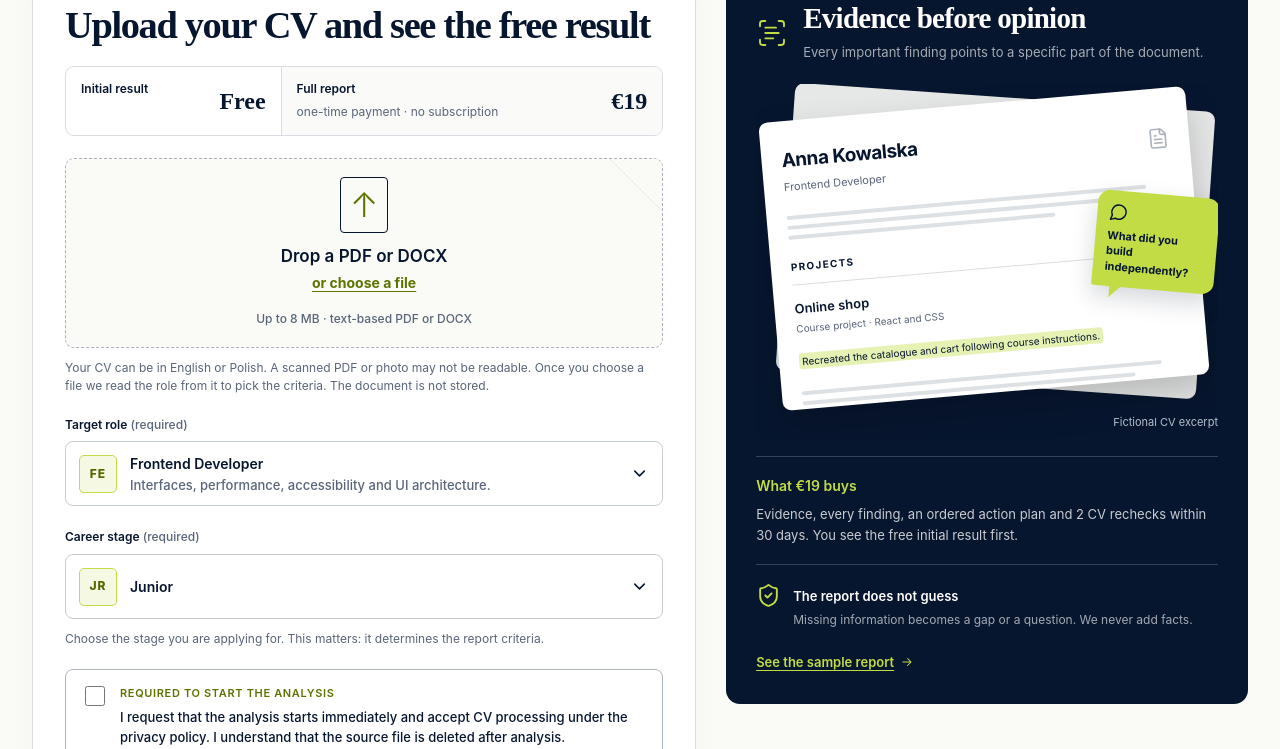
Scenario: mobile upload measurement › uses the same target-level framing in English and closes on pick
Click the dropdown named "Career stage": click(98, 587) [65,554,663,619]
(page scrolled)
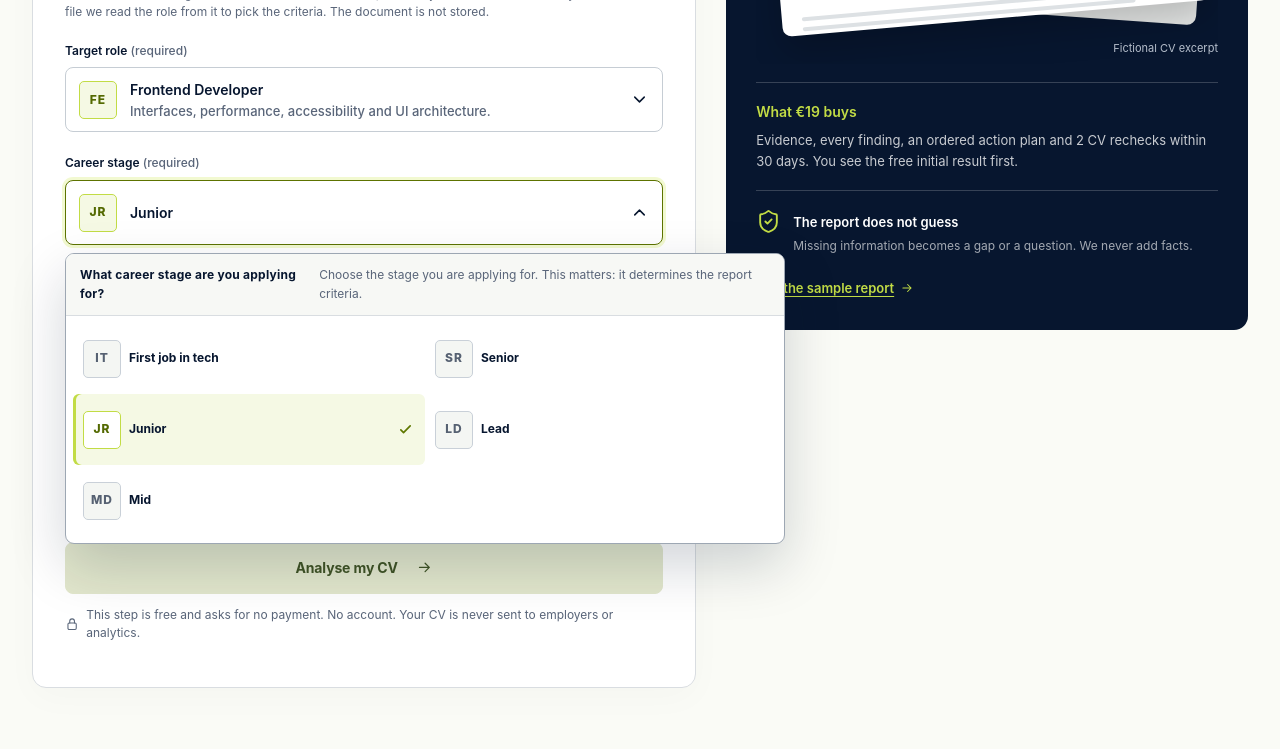
Check: the text "What career stage are you applying for?" is shown, box [80,266,309,303]
Click the option "SR Senior": click(454, 359) [425,323,777,394]
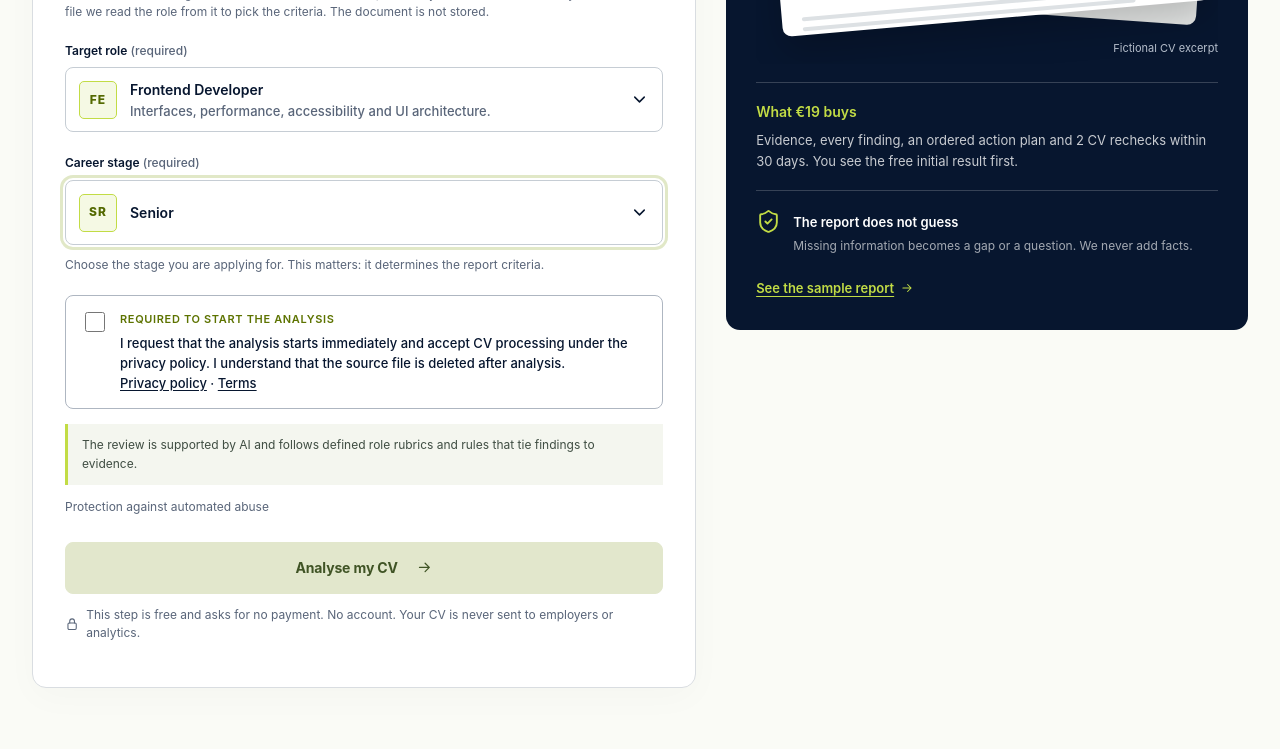
Check: the dropdown named "Career stage" is collapsed, box [65,180,663,245]
Check: the dropdown named "Career stage" shows "Senior", box [65,180,663,245]
